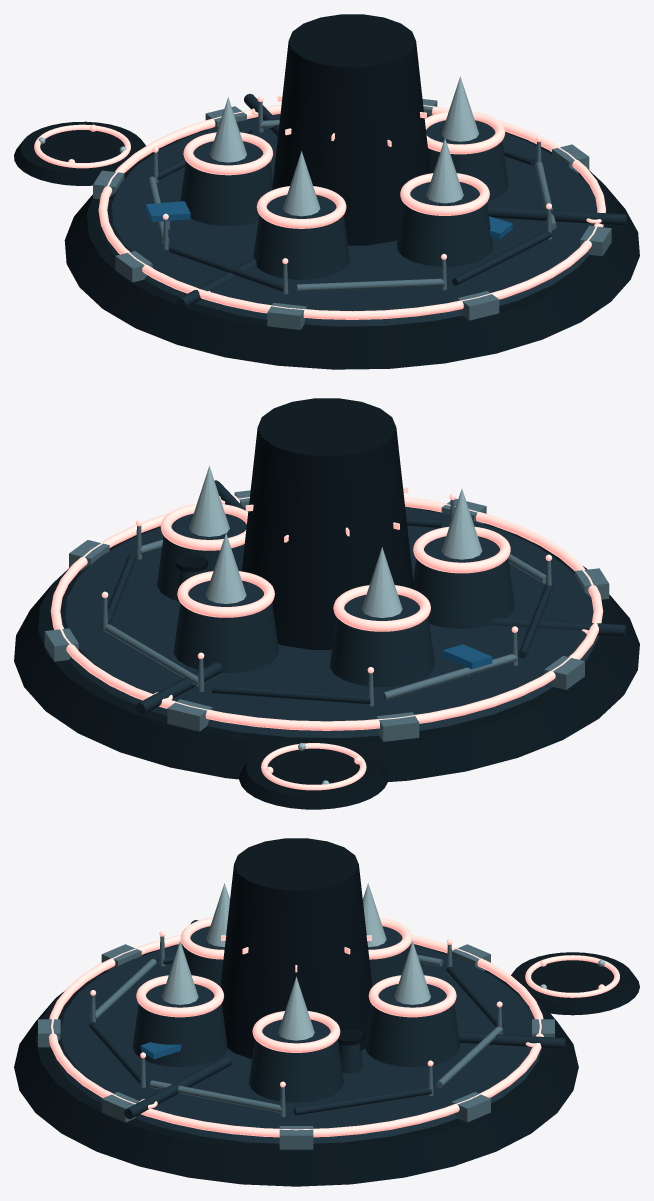
File: missileSilo-stage1.glb
The picture shows the model from 3 angles, top to bottom: view 1: azimuth 30°, elevation 25°; view 2: azimuth 150°, elevation 25°; view 3: azimuth 270°, elevation 25°; orthographic projection. The views are drawn at different scales.
Visible parts, largest first — view 1: upper-deck, armored-foundation, command-bunker, perimeter-light, detail (×4), silo-1, silo-2, silo-3, landing-pad, silo-0, utility-conduit-2, missile-1 (+15 smaller); view 2: upper-deck, command-bunker, armored-foundation, perimeter-light, detail (×4), landing-pad, silo-3, silo-4, silo-2, silo-0, missile-2, missile-0 (+17 smaller); view 3: upper-deck, armored-foundation, command-bunker, perimeter-light, detail (×5), silo-4, silo-0, landing-pad, silo-1, missile-0, missile-4, missile-1 (+20 smaller).
Boxes of the visible parts, left/top/right/bottom form: upper-deck: left=101, top=114, right=603, bottom=326; armored-foundation: left=64, top=114, right=639, bottom=369; command-bunker: left=272, top=14, right=430, bottom=245; perimeter-light: left=98, top=104, right=606, bottom=319; detail (×4): left=183, top=111, right=505, bottom=228; silo-1: left=396, top=182, right=493, bottom=266; silo-2: left=253, top=195, right=349, bottom=279; silo-3: left=180, top=141, right=272, bottom=225; landing-pad: left=14, top=121, right=145, bottom=185; silo-0: left=426, top=120, right=508, bottom=201; utility-conduit-2: left=487, top=206, right=627, bottom=225; missile-1: left=426, top=138, right=463, bottom=203; upper-deck: left=53, top=507, right=599, bottom=737; command-bunker: left=241, top=398, right=414, bottom=649; armored-foundation: left=14, top=506, right=639, bottom=781; perimeter-light: left=50, top=496, right=603, bottom=730; detail (×4): left=160, top=504, right=510, bottom=631; landing-pad: left=239, top=739, right=388, bottom=809; silo-3: left=329, top=594, right=434, bottom=686; silo-4: left=173, top=580, right=278, bottom=672; silo-2: left=413, top=536, right=514, bottom=628; silo-0: left=157, top=513, right=246, bottom=601; missile-2: left=441, top=489, right=482, bottom=559; missile-0: left=189, top=466, right=229, bottom=536; upper-deck: left=51, top=944, right=541, bottom=1143; armored-foundation: left=14, top=943, right=578, bottom=1186; command-bunker: left=220, top=838, right=372, bottom=1059; perimeter-light: left=48, top=935, right=543, bottom=1137; detail (×5): left=136, top=917, right=456, bottom=1052; silo-4: left=365, top=984, right=459, bottom=1067; silo-0: left=249, top=1019, right=343, bottom=1102; landing-pad: left=511, top=952, right=639, bottom=1015; silo-1: left=132, top=984, right=227, bottom=1067; missile-0: left=278, top=976, right=314, bottom=1040; missile-4: left=394, top=941, right=430, bottom=1004; missile-1: left=162, top=941, right=198, bottom=1004.
Bounding box in the file's own units: 8.53 × 3.38 × 9.45.
